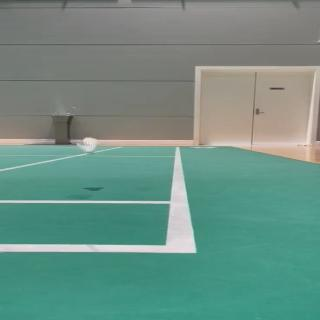Shuttle: (76, 137, 98, 155)
